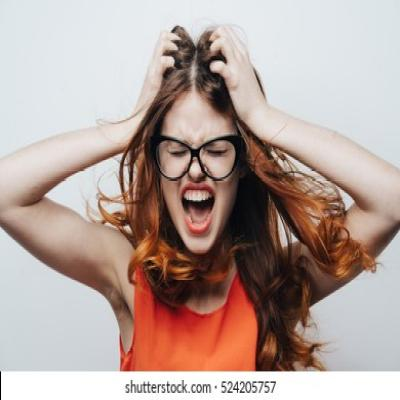angry: (156, 88, 240, 250)
